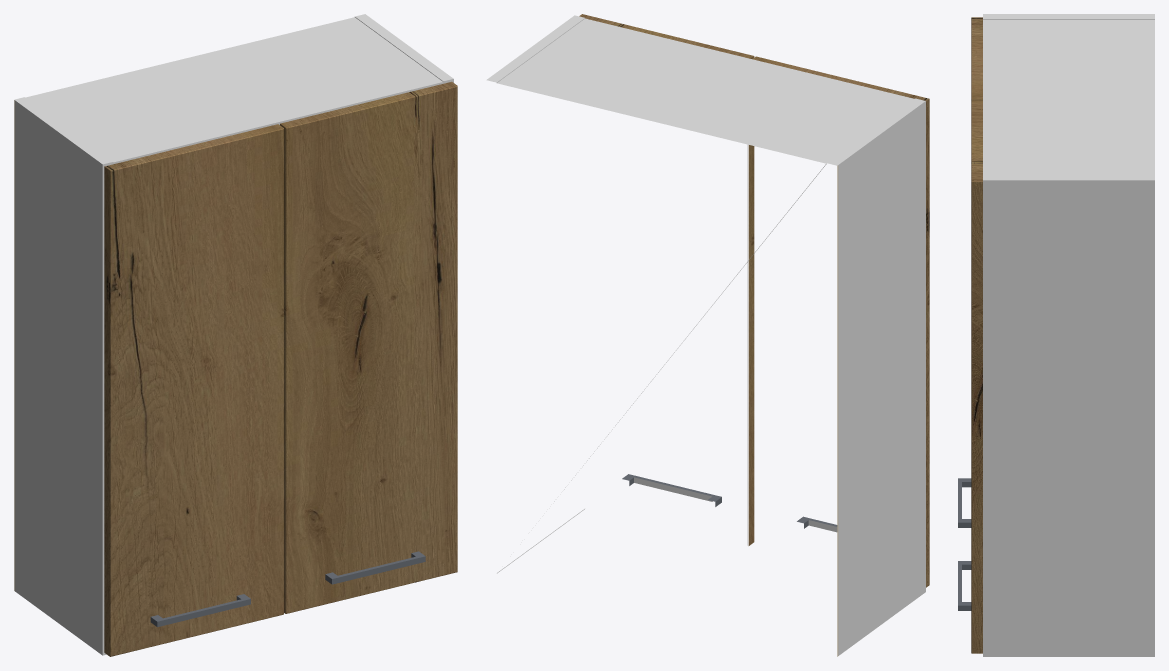
Rendered from gornji_60cm.glb.
3 views of the same model, side by side, from view 1: azimuth 30°, elevation 25°; view 2: azimuth 150°, elevation 25°; view 3: azimuth 270°, elevation 25° (orthographic). The views are drawn at different scales.
Parts seen in each view (by area): view 1: Group1; view 2: Group1; view 3: Group1.
Part boxes in pixels (bbox=[...]): Group1: bbox=[14, 14, 457, 656]; Group1: bbox=[486, 14, 929, 656]; Group1: bbox=[958, 14, 1154, 656].
Bounding box in the file's own units: 600 × 802 × 300.
Materials: 6 (1 with a texture image).
